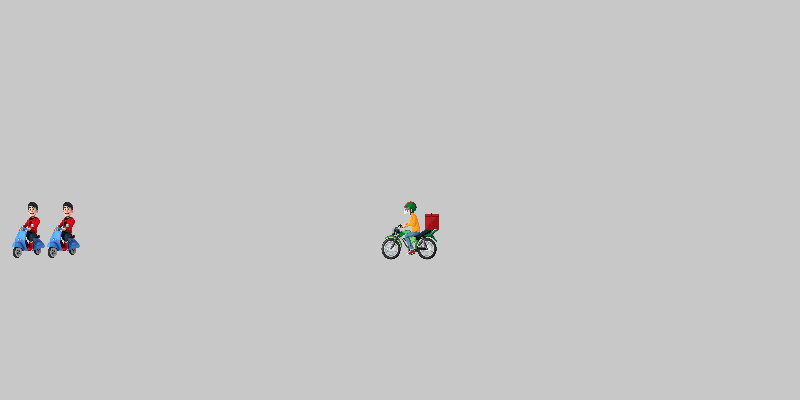helmet: (380, 200, 440, 260)
no_helmet: (0, 200, 60, 260), (35, 200, 95, 260)
